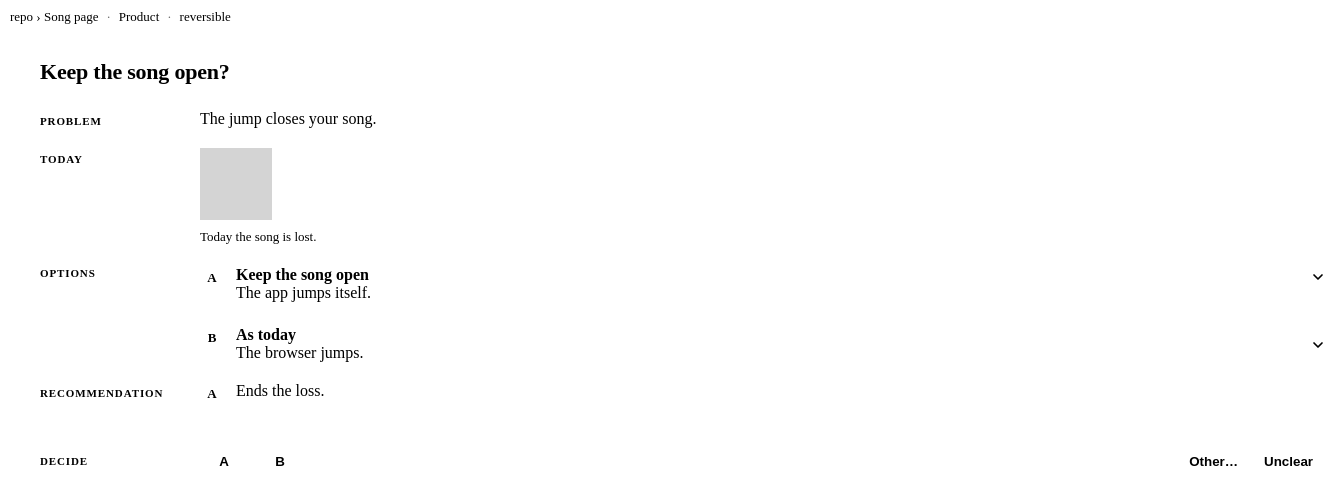
[ABRD-99] [ABRD-100] a held pick lights its letter from the click and Saving shows from the window's end
This screenshot has width=1340, height=498.
Click the button named "Decide B:".
click(280, 461)  # box 256,441 -> 304,481
Wait 8000 ms
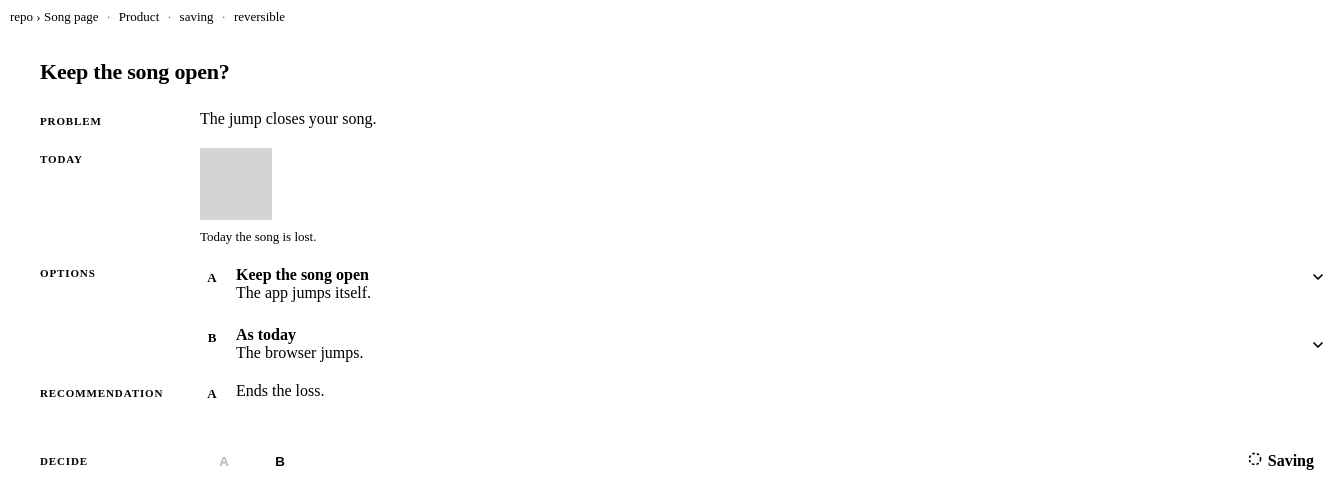
Expected: the text "Saving" is shown, 1248,452 -> 1314,469
